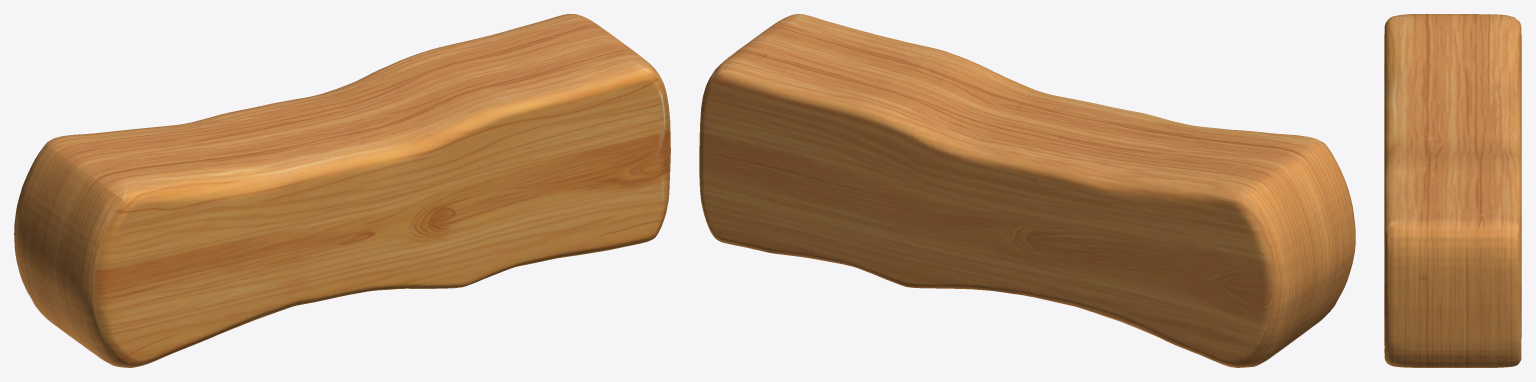
File: wooden_prop.glb
3 renders of one model, left to right at view 1: azimuth 30°, elevation 25°; view 2: azimuth 150°, elevation 25°; view 3: azimuth 270°, elevation 25°, orthographic. The views are drawn at different scales.
Size of the model in its own units: 2 by 0.5961 by 0.5002.
1 material, 1 textured.
